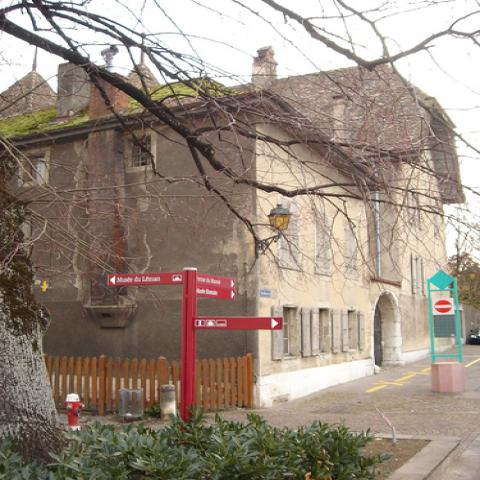car: (467, 324, 479, 344)
